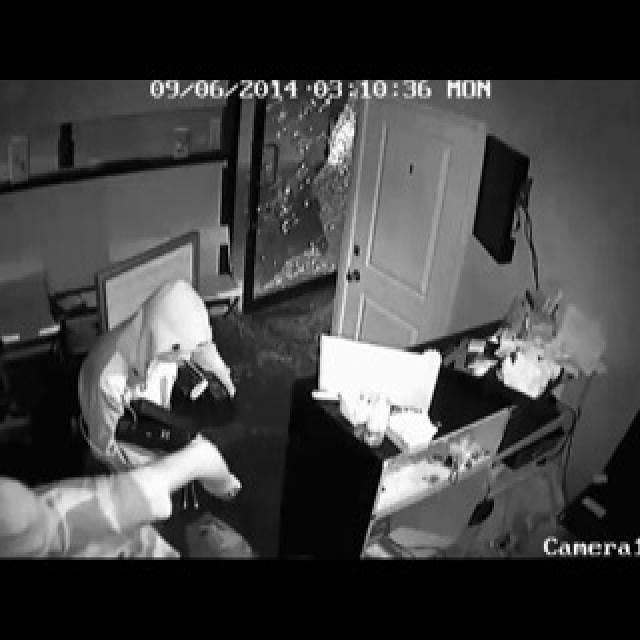thief: (78, 272, 216, 477), (1, 479, 223, 559)
